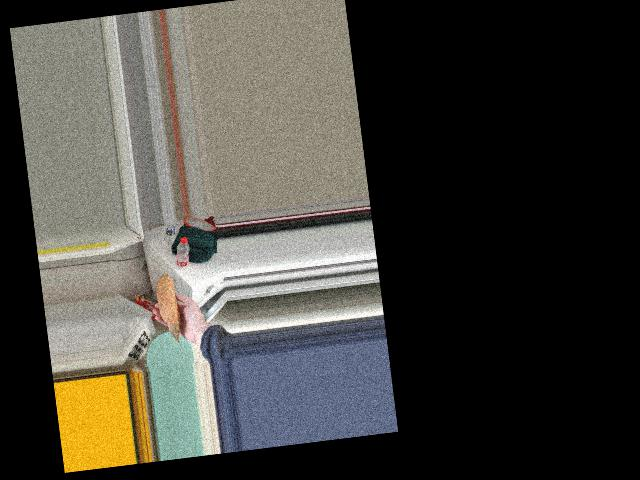sweet_potato: (154, 272, 184, 341)
